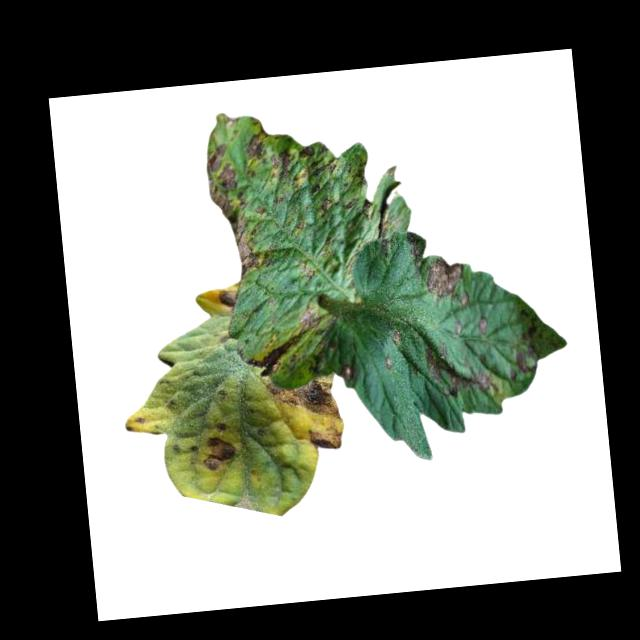Early_blight: (204, 141, 262, 281), (241, 304, 329, 377), (424, 338, 499, 402), (265, 372, 341, 427), (268, 141, 341, 197), (425, 254, 471, 312), (190, 433, 237, 471), (308, 421, 345, 451), (505, 342, 532, 381), (246, 127, 270, 160), (217, 288, 240, 309), (475, 313, 491, 336), (340, 362, 355, 383), (317, 196, 332, 212), (212, 419, 228, 433)
